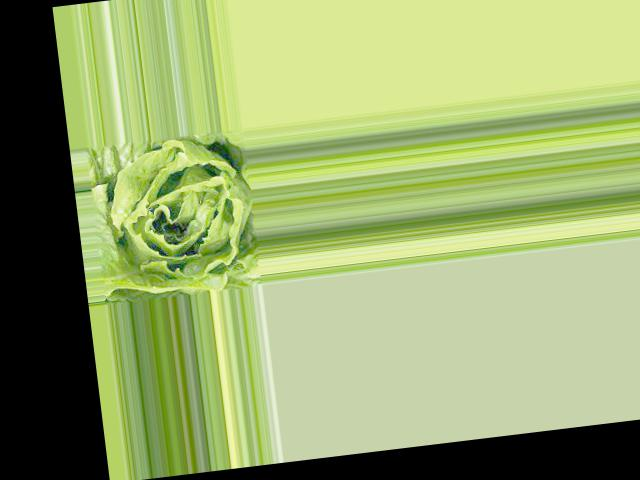lettuce: (92, 134, 252, 302)
